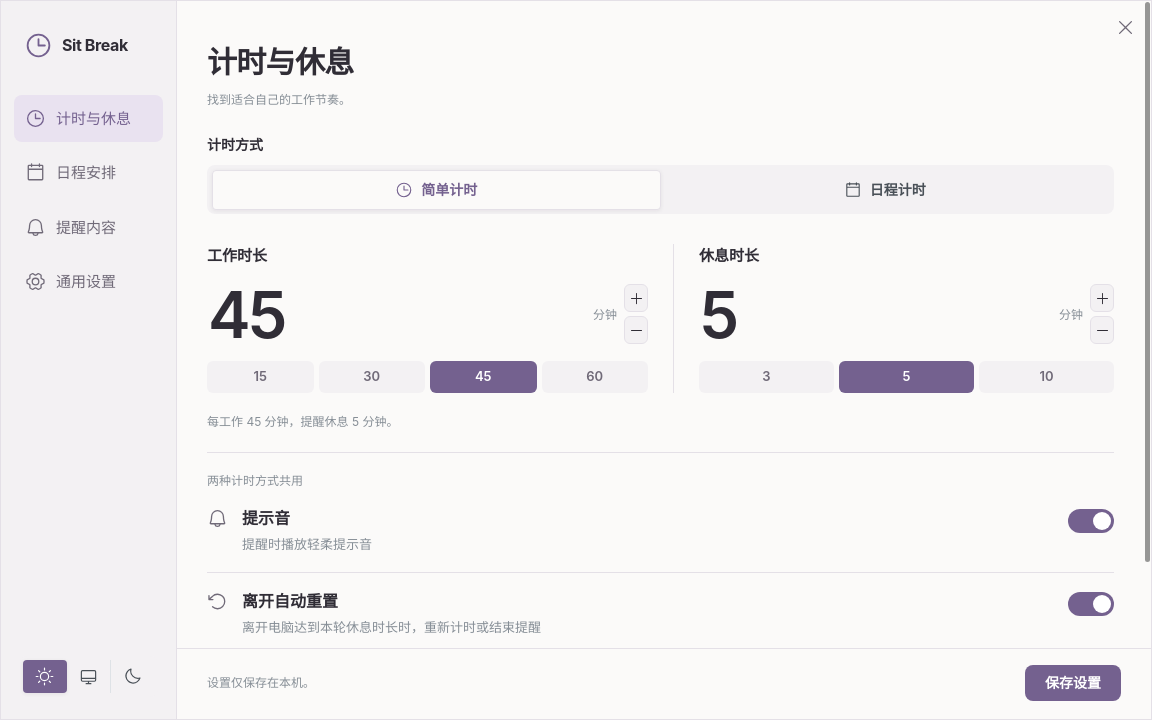
设置主要交互 › 保存期间继续输入保留新草稿，第二次保存写入新值
The image size is (1152, 720).
Replace the text in the field labelled "工作时长" with "30": {"x": 396, "y": 314} [207,273,586,355]
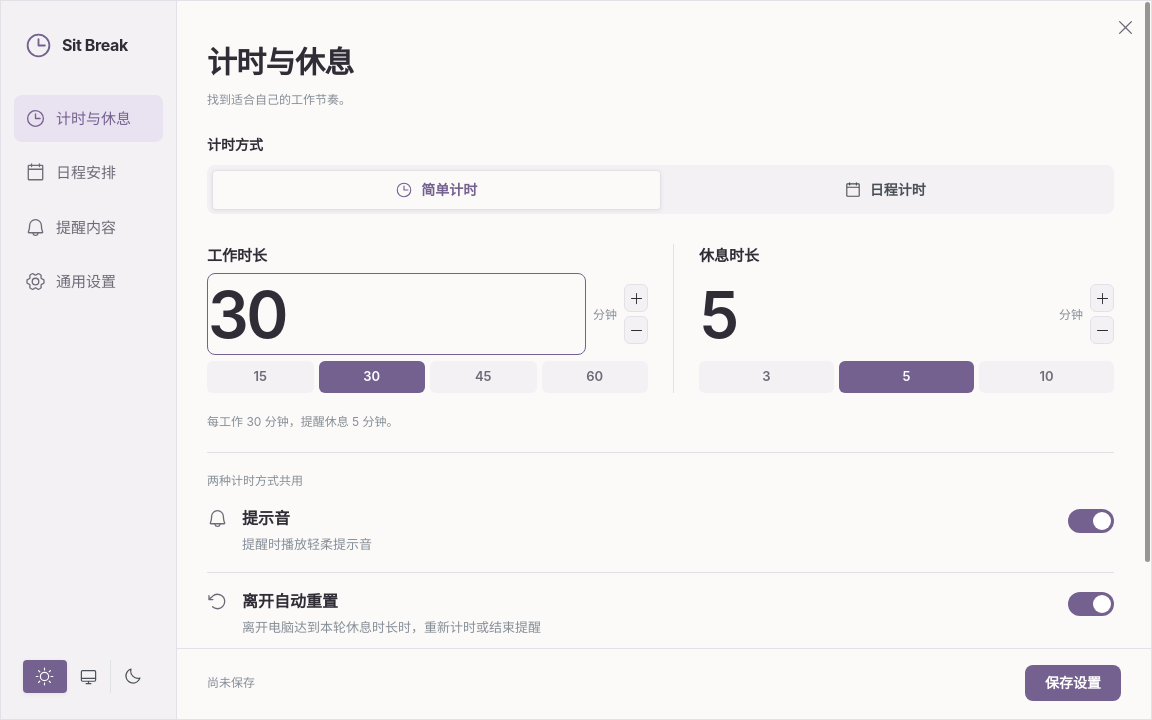
Click the button "保存设置": {"x": 1073, "y": 683} [1025,665,1121,701]
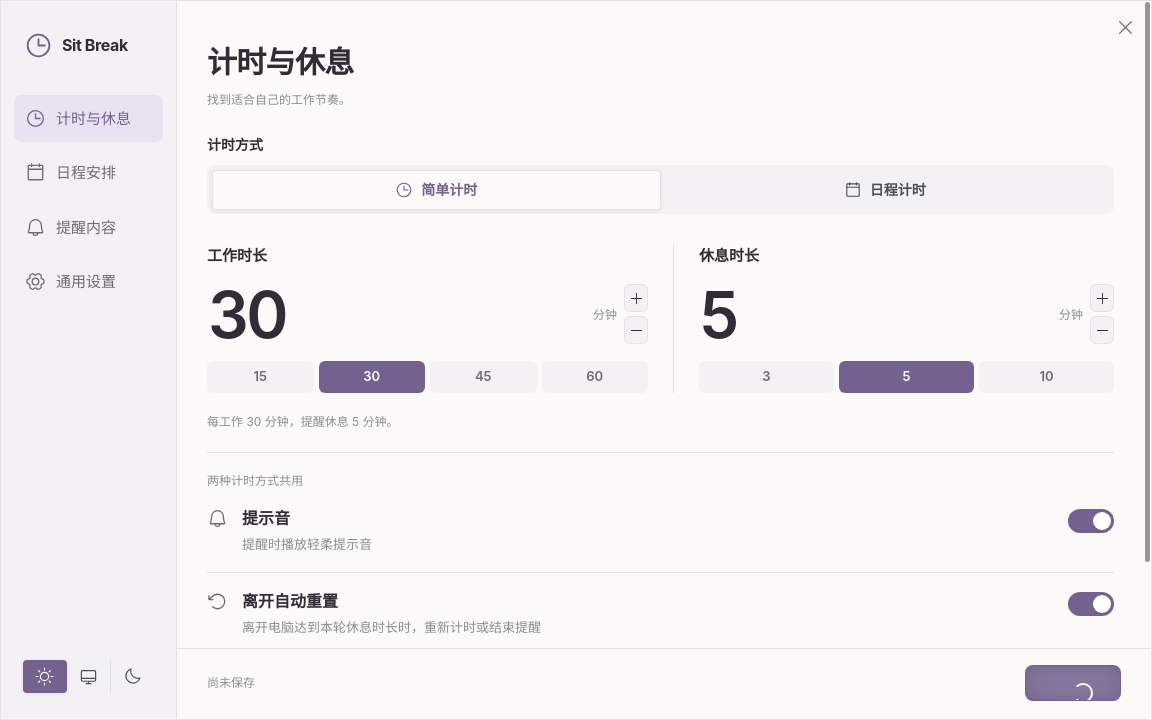
Replace the text in the field labelled "工作时长" with "60": {"x": 396, "y": 314} [207,273,586,355]
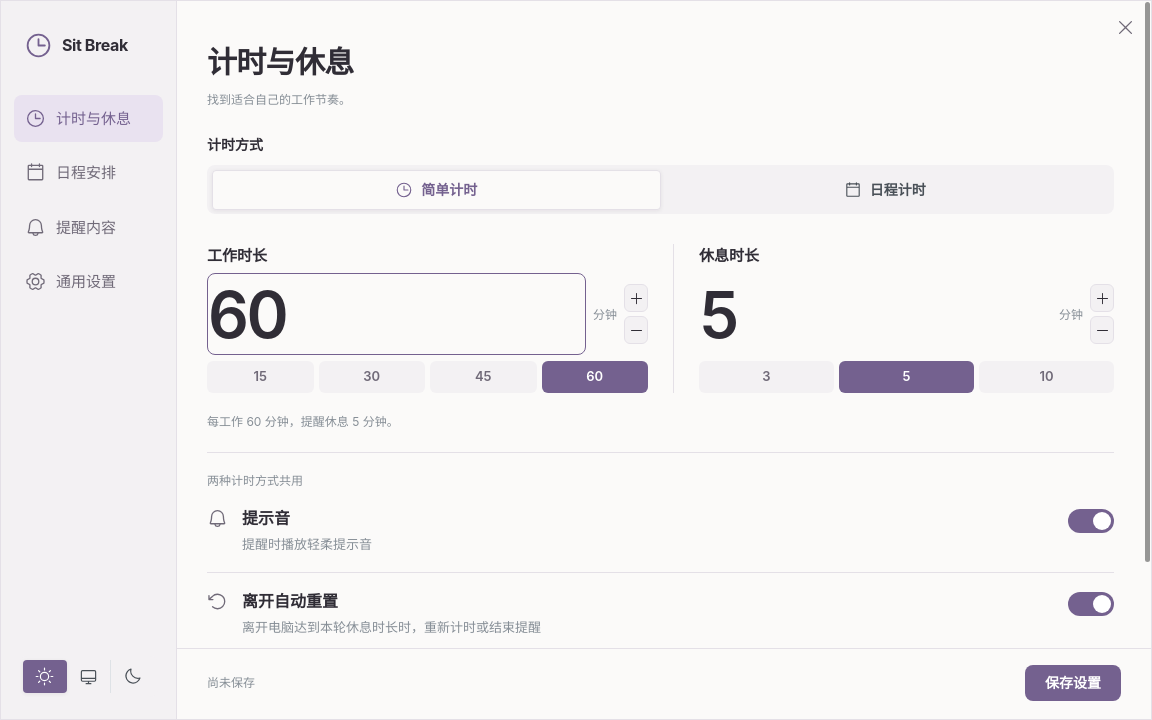
Expected: the message shows "未保存", [207,673,255,693]
Click the button "保存设置": {"x": 1073, "y": 683} [1025,665,1121,701]
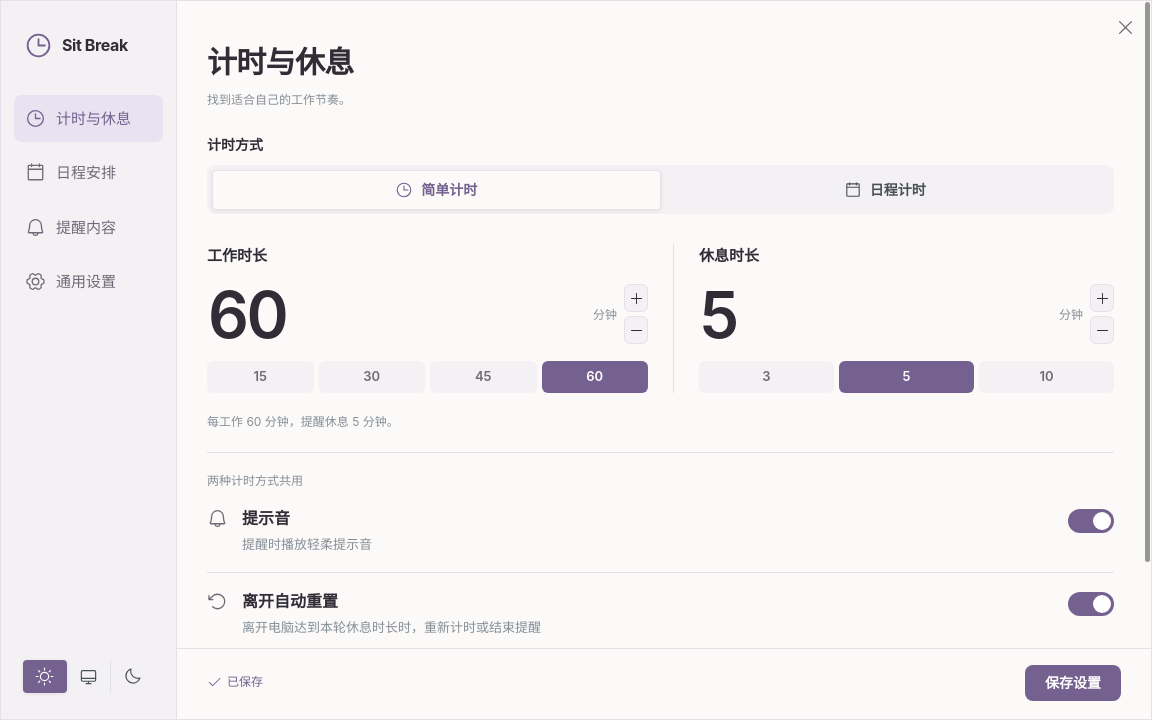
Expected: the text "已保存" is shown, [207,672,263,691]
